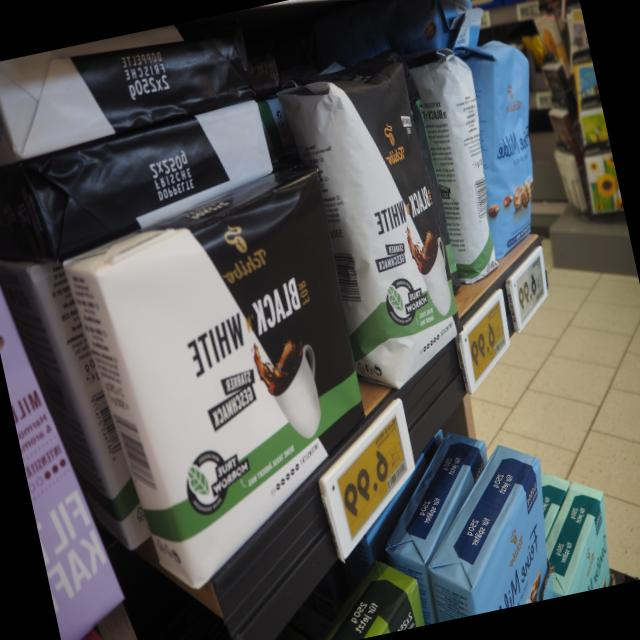BW Bohne: (313, 47, 470, 402)
BW Gemahlen: (86, 162, 373, 605)
FM Bohne: (472, 47, 542, 262)
